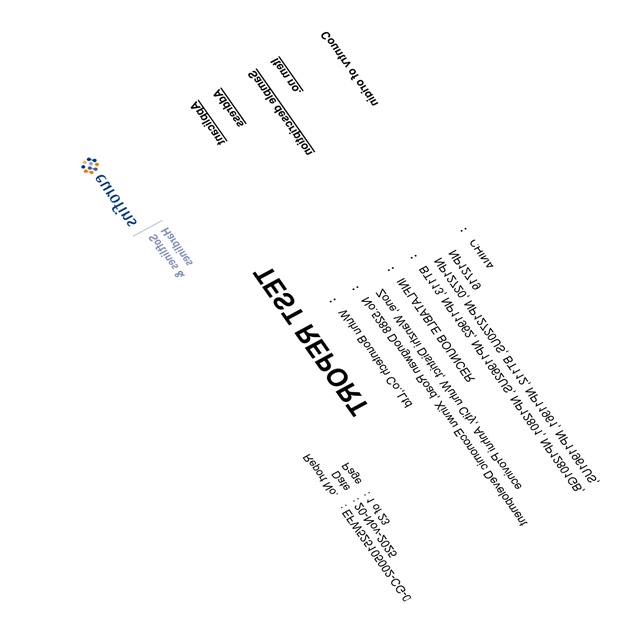eurofins: (78, 155, 141, 232)
